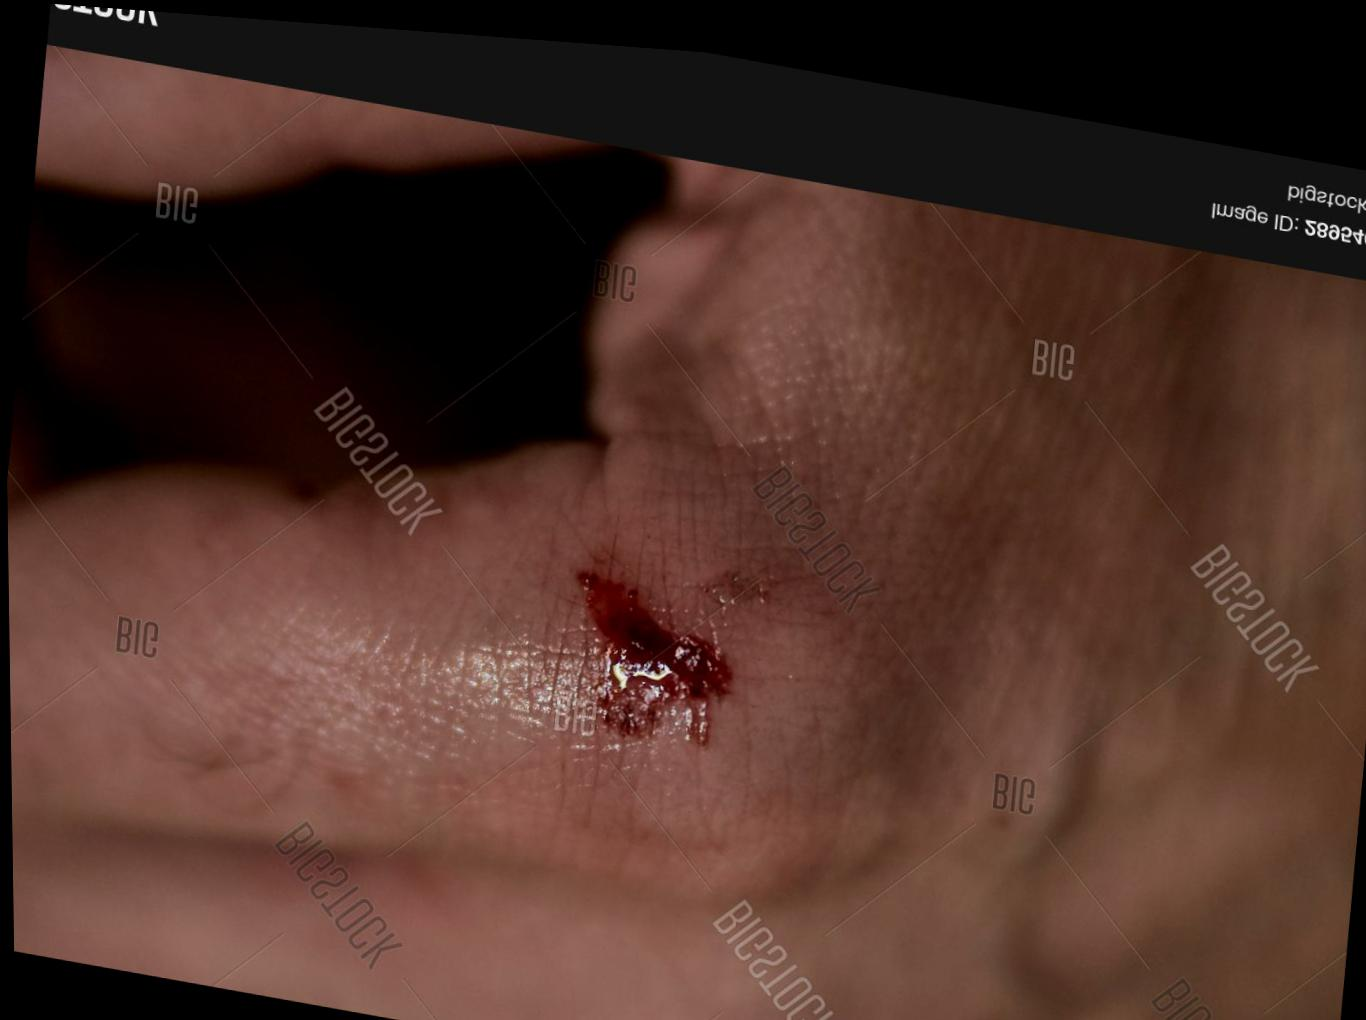Fire: (576, 565, 727, 736)
